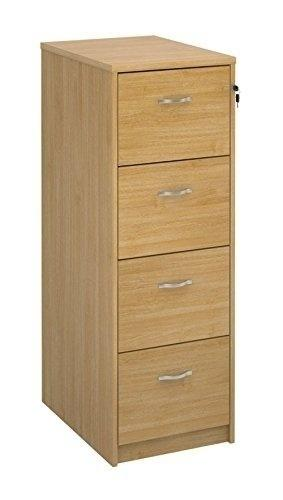cabinet_door: (118, 341, 229, 441), (118, 253, 230, 348), (119, 68, 231, 161), (118, 164, 231, 255)
handle: (155, 366, 193, 392), (156, 273, 194, 298), (156, 183, 193, 206), (155, 93, 194, 113)
